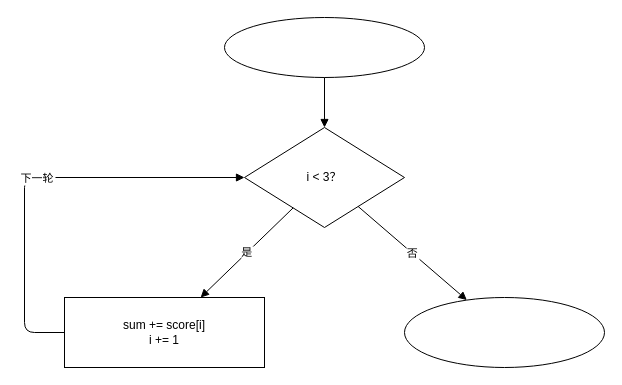
Some shapes in this 622 by 385 pixel diagram are drawn without their labels. Each missing label, with the centre of its shape:
"开始：sum=0，i=0" goes at (324,47).
"输出 sum，结束" goes at (504,332).
